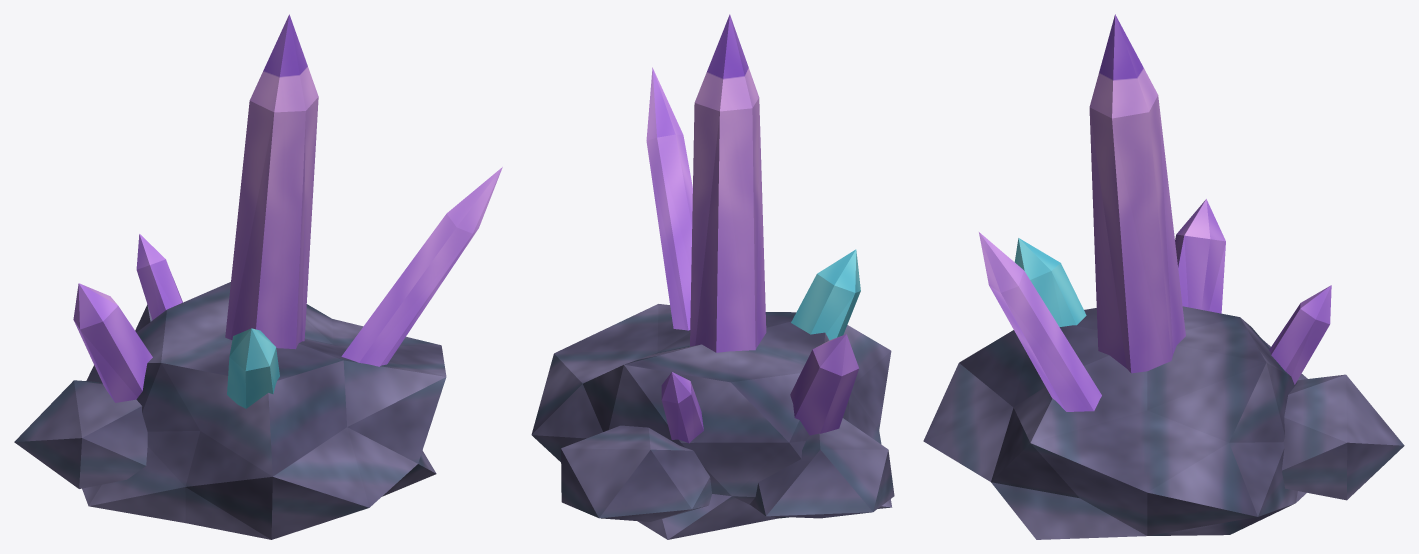
The model's file is cluster_small.glb.
3 views of the same model, side by side, from view 1: azimuth 30°, elevation 25°; view 2: azimuth 150°, elevation 25°; view 3: azimuth 270°, elevation 25° (orthographic). The views are drawn at different scales.
Parts seen in each view (by area): view 1: cluster_small; view 2: cluster_small; view 3: cluster_small.
Part boxes in pixels (x1=…): cluster_small: x1=14, y1=14, x2=502, y2=539; cluster_small: x1=531, y1=14, x2=894, y2=539; cluster_small: x1=923, y1=14, x2=1404, y2=539.
Bounding box in the file's own units: 1.63 × 1.88 × 1.74.
Materials: 4 (4 with a texture image).
